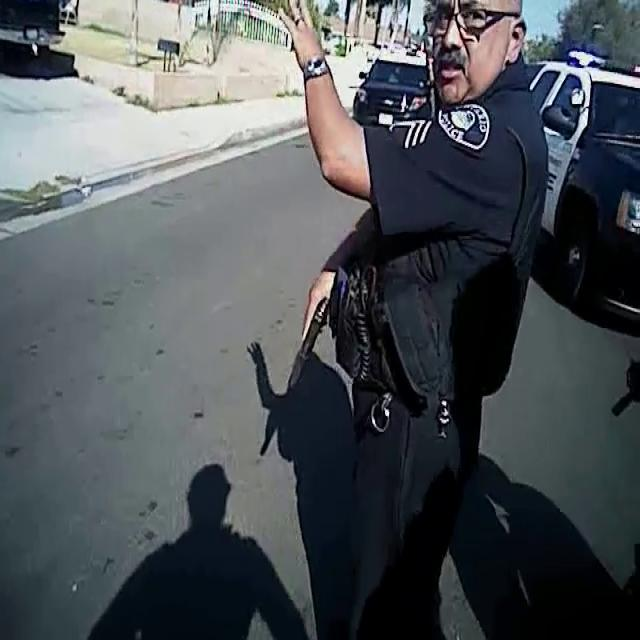gun: (275, 277, 338, 407)
